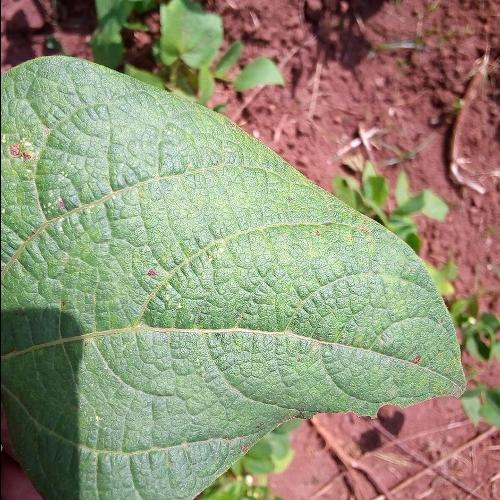hawar: (0, 133, 73, 214), (233, 408, 288, 462), (313, 222, 378, 252), (135, 260, 159, 283), (403, 348, 422, 374)
